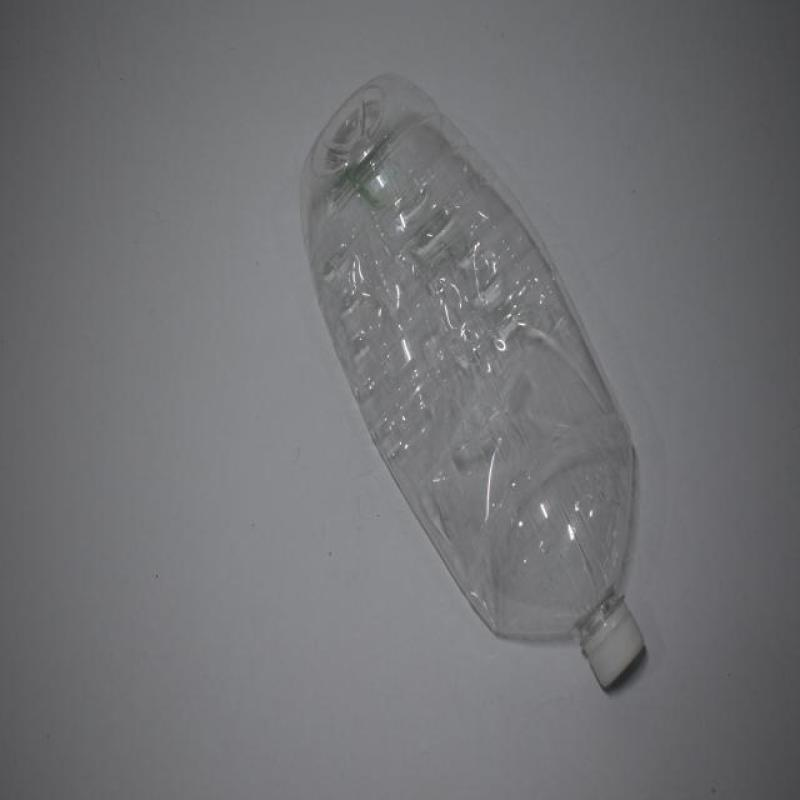botella: (297, 71, 649, 698)
